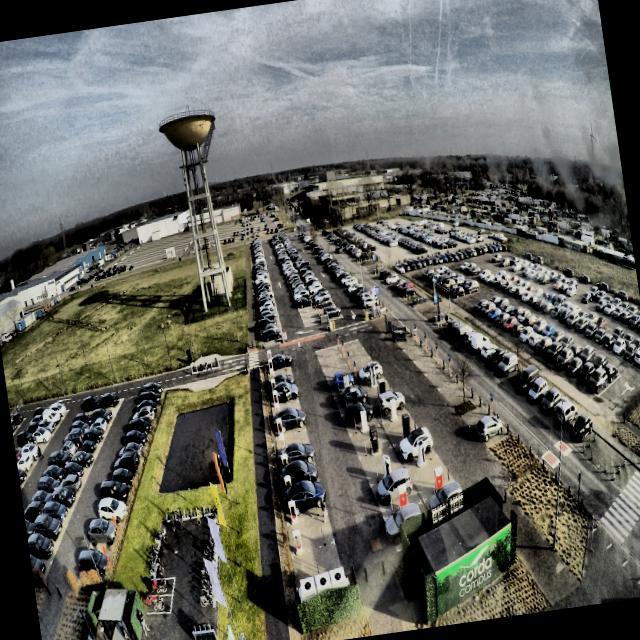cabinet: (300, 566, 347, 595)
car: (284, 480, 327, 519), (281, 459, 319, 487), (279, 441, 315, 466), (274, 407, 307, 433), (271, 380, 300, 403), (268, 372, 296, 390), (269, 354, 295, 371)
parking: (292, 542, 341, 583), (288, 511, 334, 554), (284, 485, 326, 523), (281, 465, 320, 497), (278, 447, 315, 476), (276, 429, 311, 456), (274, 414, 306, 437), (272, 401, 302, 421), (271, 389, 299, 408), (269, 379, 296, 395), (268, 369, 294, 384), (267, 358, 291, 374)
supercharger: (292, 530, 303, 553), (288, 500, 298, 523), (284, 475, 293, 495), (281, 454, 290, 470), (276, 418, 284, 436), (278, 435, 286, 451), (274, 403, 281, 419), (272, 390, 279, 404), (271, 379, 277, 390), (269, 368, 275, 379), (268, 359, 274, 370), (267, 350, 272, 360)
